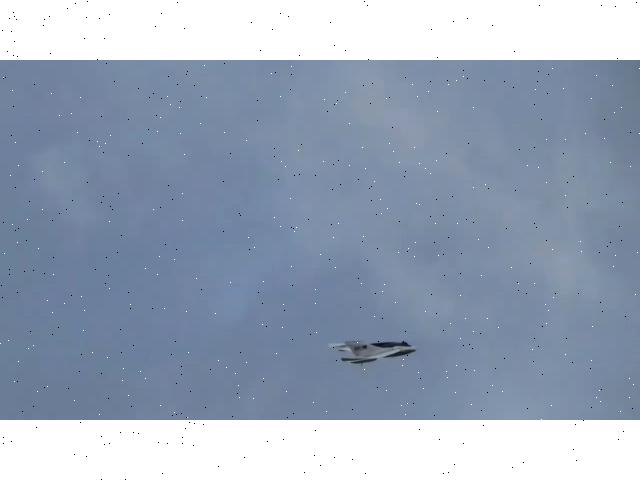Anti-Drone: (327, 339, 417, 365)
